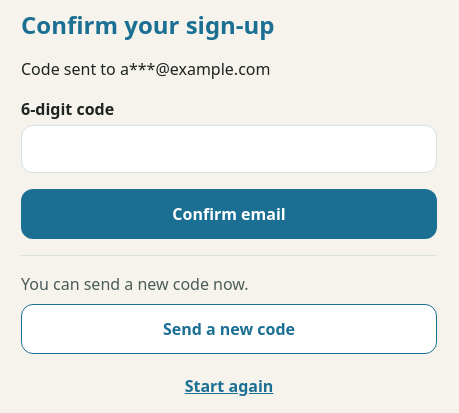
Test case: the email step › keeps only digits, at most six
Step 1. Type "12ab34 56789" into the field labelled "6-digit code" → (229, 149), box [21,125,437,173]
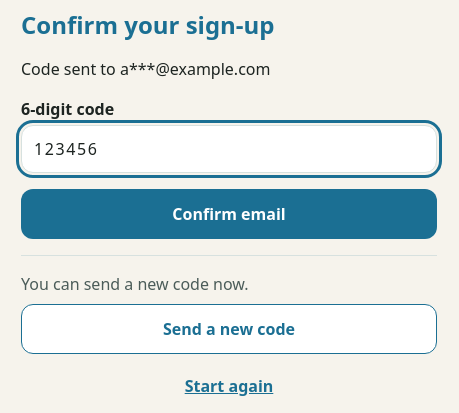
Expected: the field labelled "6-digit code" holds "123456", [21,125,437,173]
